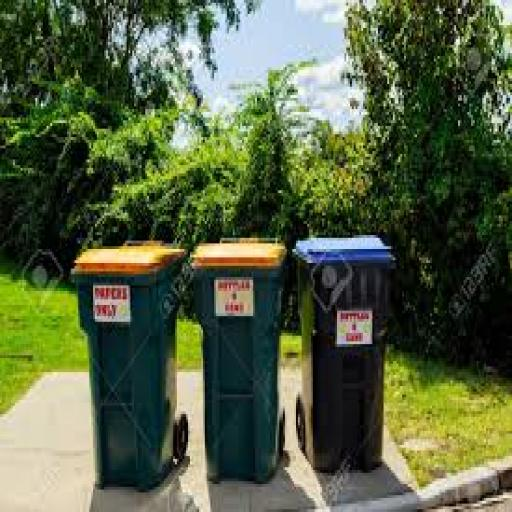poubelle_vide: (68, 215, 188, 502), (298, 209, 403, 476), (195, 214, 290, 501)
